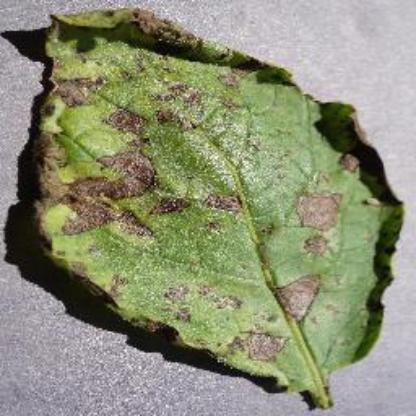Early-Blight: (21, 6, 397, 410)
